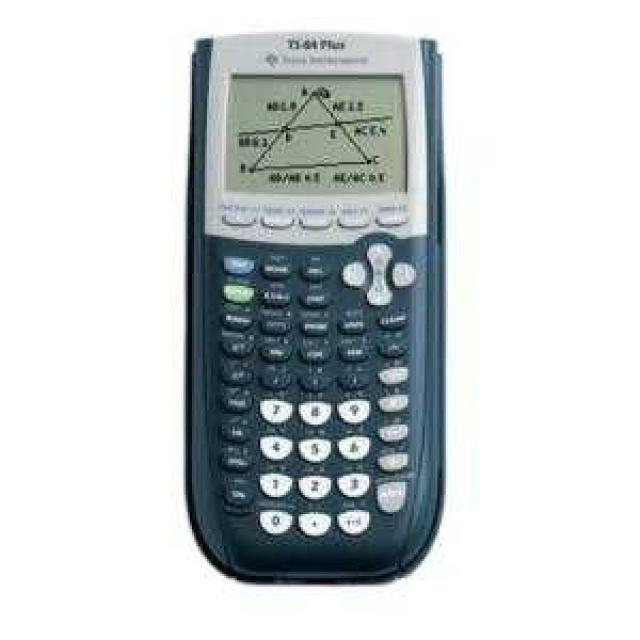Calculator: (186, 32, 444, 580)
